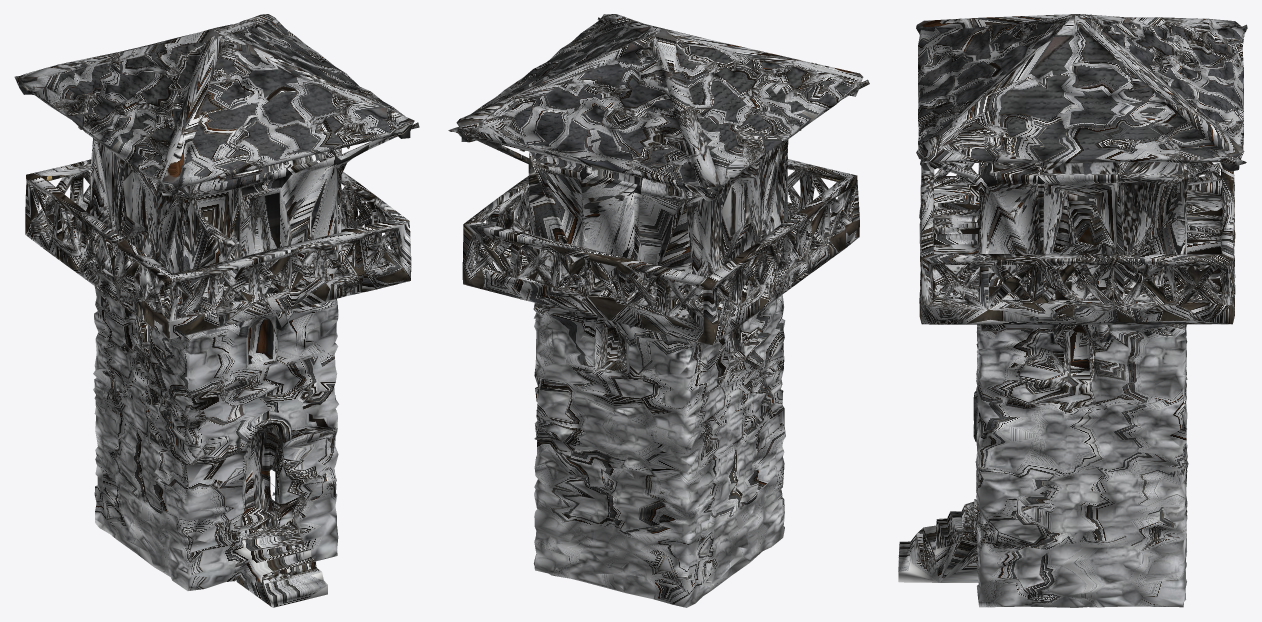
The model's file is gt_limes.glb.
3 renders of one model, left to right at view 1: azimuth 30°, elevation 25°; view 2: azimuth 150°, elevation 25°; view 3: azimuth 270°, elevation 25°, orthographic. The views are drawn at different scales.
Visible parts, largest first — view 1: gt_limes; view 2: gt_limes; view 3: gt_limes.
Part boxes in pixels (box(x1,y1,x2,y2)): gt_limes: box(14, 14, 419, 607); gt_limes: box(448, 14, 869, 607); gt_limes: box(898, 14, 1247, 607).
Size of the model in its own units: 1.03 by 1.9 by 1.09.
1 material, 1 textured.
